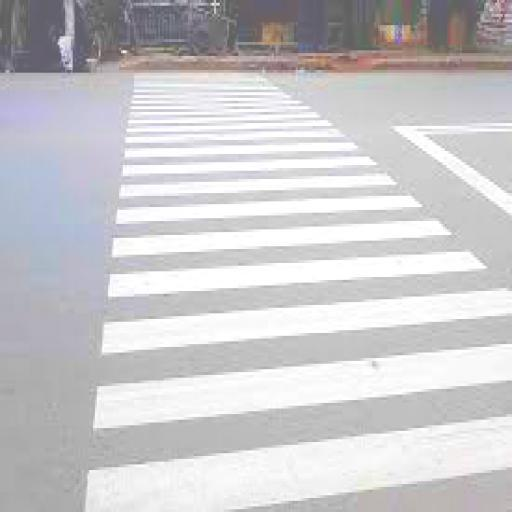crosswalk: (89, 216, 503, 302)
